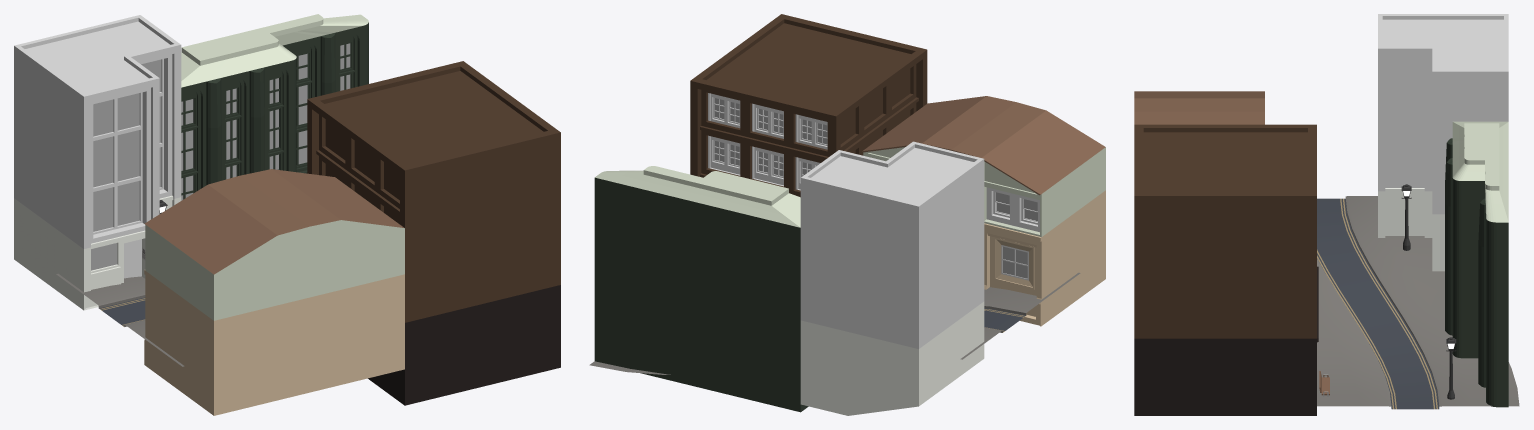
The model's file is decline.glb.
3 renders of one model, left to right at view 1: azimuth 30°, elevation 25°; view 2: azimuth 150°, elevation 25°; view 3: azimuth 270°, elevation 25°, orthographic. The views are drawn at different scales.
Parts seen in each view (by area): view 1: Cube.068, Cube.069, Cube.156, Cube.067, Cube.070, Street.001; view 2: Cube.069, Cube.070, Cube.068, Cube.156, Cube.067, Street.001, Cube.171, Cube.170, Cube.172, Cube.174, Cube.173, Cube.157; view 3: Cube.068, Street.001, Cube.069, Cube.070, Cube.156, Body.
Boxes of the visible parts, bbox=[...] form: Cube.068: bbox=[307, 61, 560, 405]; Cube.069: bbox=[14, 15, 181, 310]; Cube.156: bbox=[144, 169, 404, 320]; Cube.067: bbox=[144, 270, 404, 415]; Cube.070: bbox=[181, 14, 368, 200]; Street.001: bbox=[56, 273, 184, 366]; Cube.069: bbox=[800, 141, 984, 415]; Cube.070: bbox=[594, 166, 808, 412]; Cube.068: bbox=[690, 14, 927, 197]; Cube.156: bbox=[862, 96, 1105, 236]; Cube.067: bbox=[984, 190, 1105, 326]; Street.001: bbox=[589, 272, 1080, 374]; Cube.171: bbox=[708, 135, 740, 175]; Cube.170: bbox=[752, 146, 783, 186]; Cube.172: bbox=[795, 114, 827, 149]; Cube.174: bbox=[708, 93, 740, 128]; Cube.173: bbox=[752, 103, 783, 138]; Cube.157: bbox=[1001, 245, 1028, 280]; Cube.068: bbox=[1134, 124, 1318, 415]; Street.001: bbox=[1317, 196, 1519, 409]; Cube.069: bbox=[1378, 14, 1508, 271]; Cube.070: bbox=[1445, 121, 1508, 407]; Cube.156: bbox=[1134, 91, 1264, 124]; Body: bbox=[1401, 184, 1411, 250].
Size of the model in its own units: 20.14 by 14.34 by 20.55.
20 materials, 3 textured.
